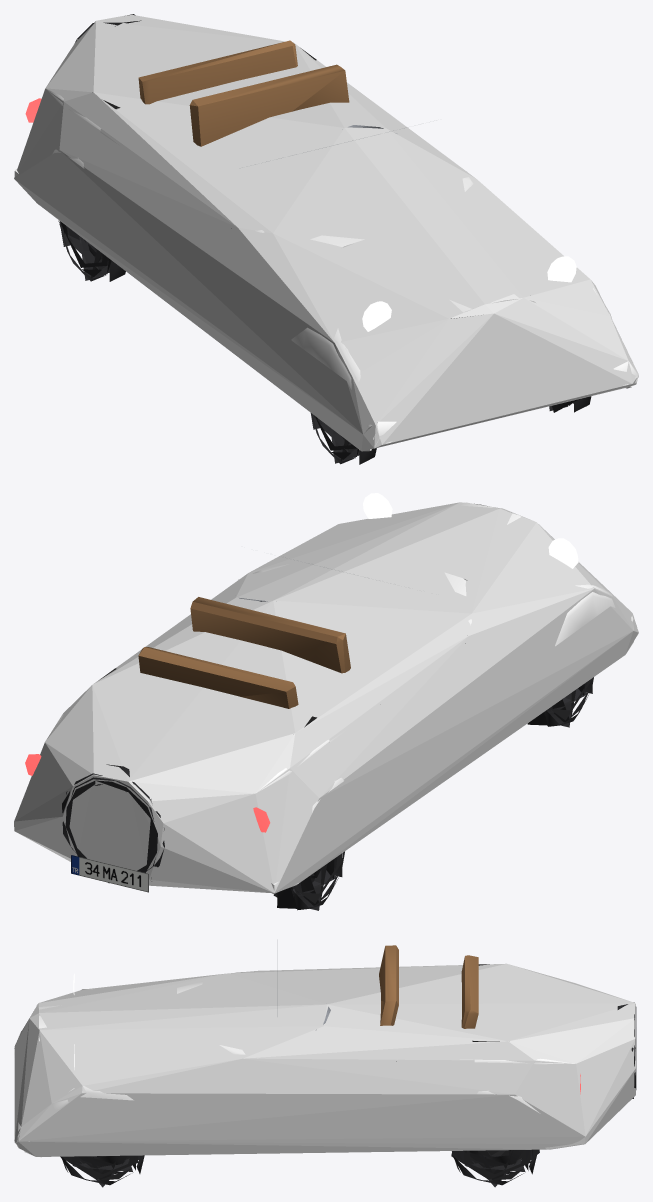
File: bosfor_moda_lod2.glb
The picture shows the model from 3 angles, top to bottom: view 1: azimuth 30°, elevation 25°; view 2: azimuth 150°, elevation 25°; view 3: azimuth 270°, elevation 25°; orthographic projection. The views are drawn at different scales.
Parts seen in each view (by area): view 1: col_body, interior, body, wheel_RR, lights_front, wheel_FR; view 2: col_body, interior, body, trim, wheel_RR, plate_rear, wheel_FR, lights_front; view 3: col_body, interior, wheel_RL, wheel_FL, body, trim.
Part boxes in pixels (<box>): col_body: <box>14,14,638,451</box>; interior: <box>138,40,349,146</box>; body: <box>14,89,638,451</box>; wheel_RR: <box>58,220,125,281</box>; lights_front: <box>362,256,576,331</box>; wheel_FR: <box>310,413,376,464</box>; col_body: <box>14,502,638,893</box>; interior: <box>138,597,350,708</box>; body: <box>47,502,637,894</box>; trim: <box>62,598,465,882</box>; wheel_RR: <box>273,851,344,910</box>; plate_rear: <box>71,855,148,892</box>; wheel_FR: <box>527,677,593,727</box>; lights_front: <box>363,493,578,568</box>; col_body: <box>14,963,635,1156</box>; interior: <box>379,945,478,1028</box>; wheel_RL: <box>451,1149,539,1187</box>; wheel_FL: <box>60,1155,144,1187</box>; body: <box>14,972,585,1157</box>; trim: <box>315,964,636,1098</box>.
Size of the model in its own units: 1.8 by 1.39 by 4.62.
9 materials, 1 textured.
